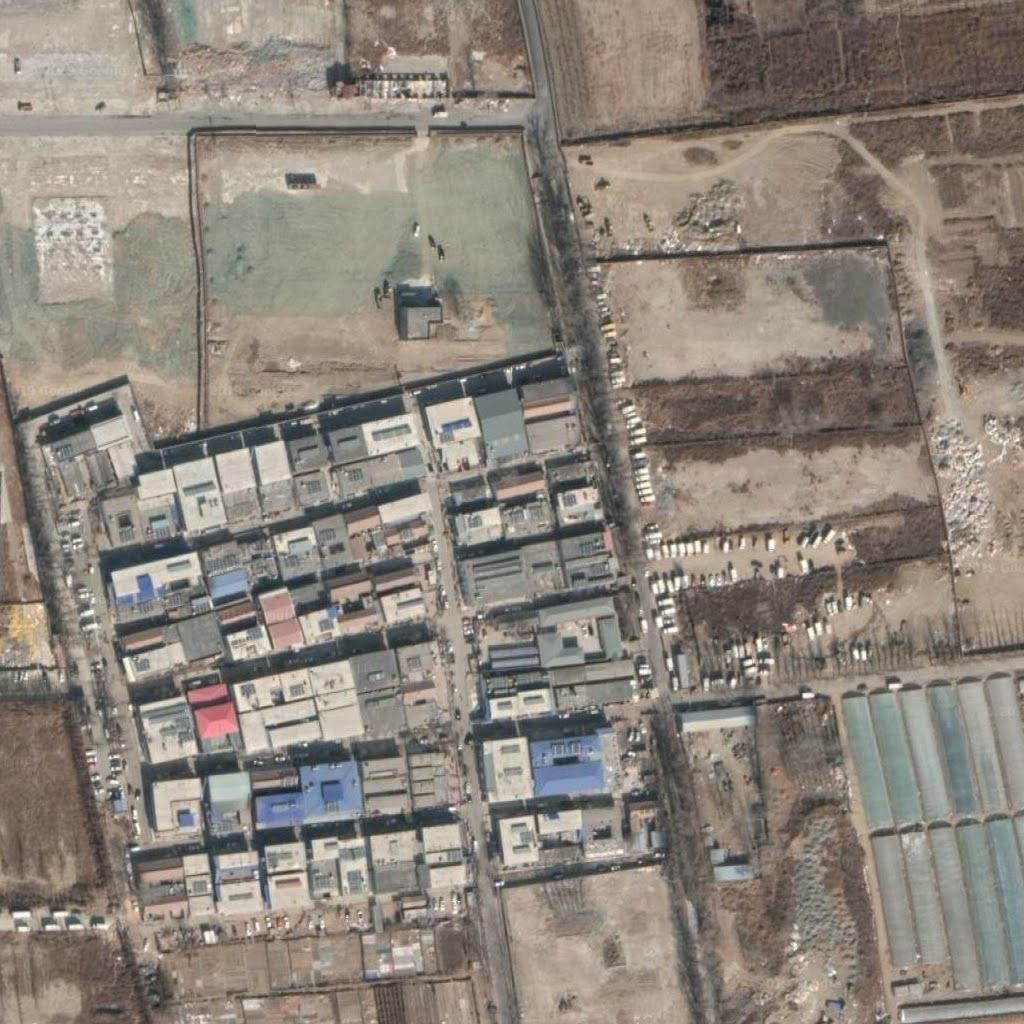agriculture forestry: (173, 44, 344, 97), (30, 199, 111, 300), (676, 180, 745, 248)
domestic garbage: (926, 417, 1024, 577)
